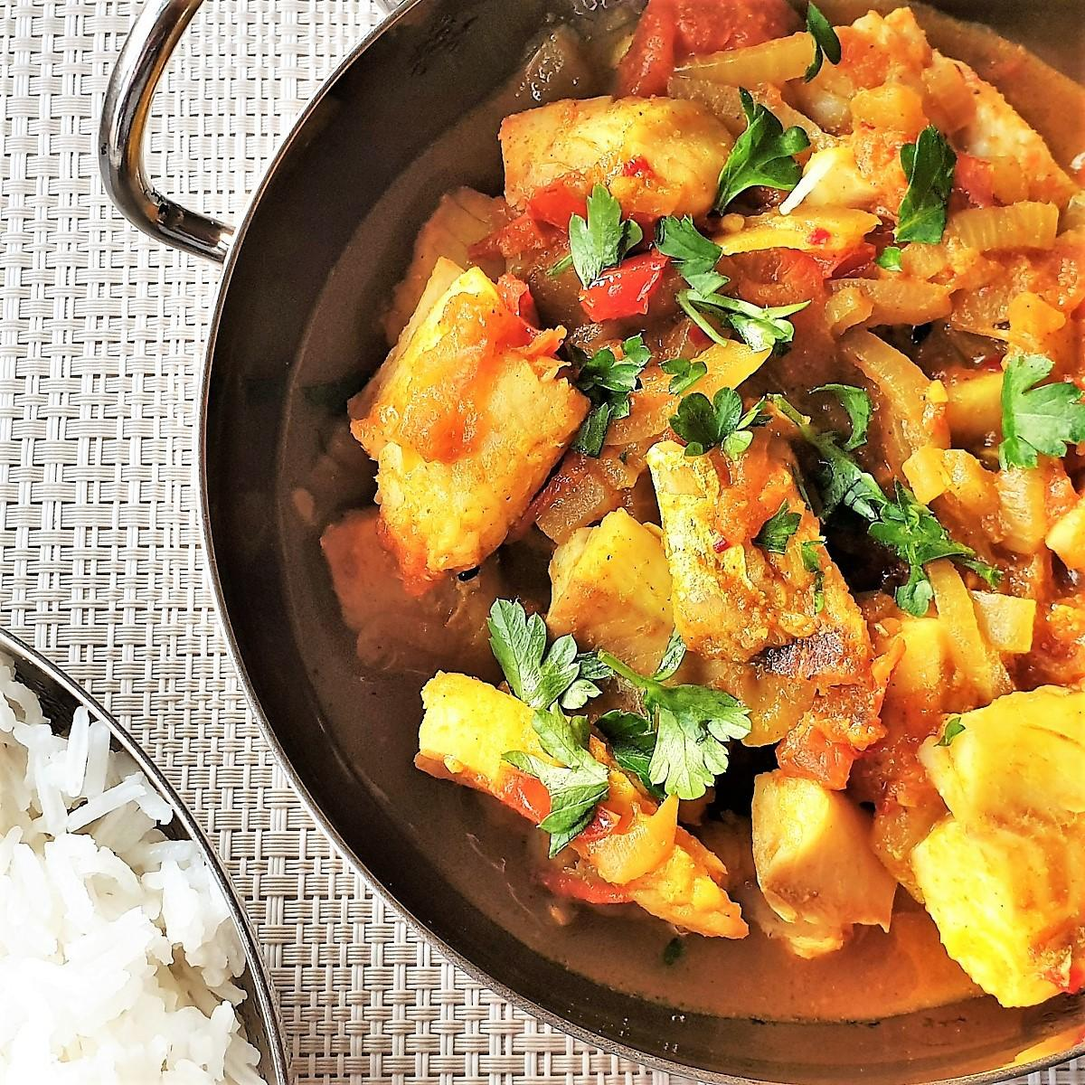FishCurry: (301, 0, 1085, 1035)
